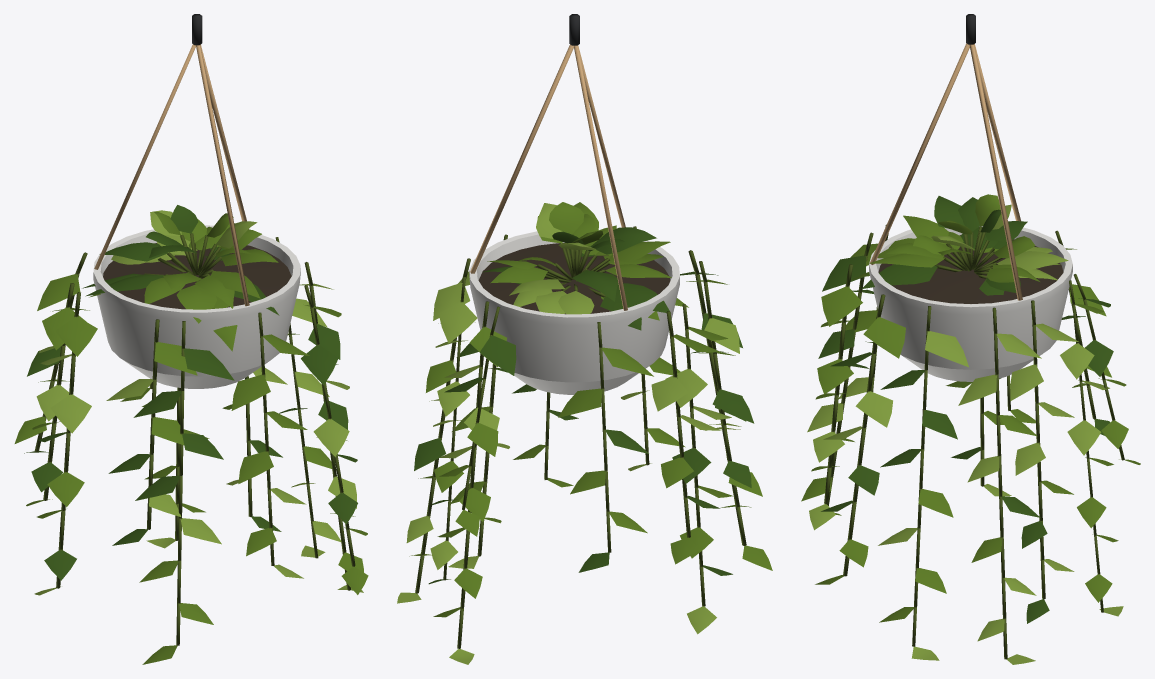
The model's file is greenery.hanging-plant.glb.
The picture shows the model from 3 angles, left to right: view 1: azimuth 30°, elevation 25°; view 2: azimuth 150°, elevation 25°; view 3: azimuth 270°, elevation 25°; orthographic projection. The views are drawn at different scales.
Visible parts, largest first — view 1: greenery.hanging-plant.001; view 2: greenery.hanging-plant.001; view 3: greenery.hanging-plant.001.
Part boxes in pixels (box(x1,y1,x2,y2)): greenery.hanging-plant.001: box(14, 14, 368, 664); greenery.hanging-plant.001: box(397, 14, 772, 664); greenery.hanging-plant.001: box(801, 14, 1140, 664).
Size of the model in its own units: 0.4 by 0.75 by 0.4.
